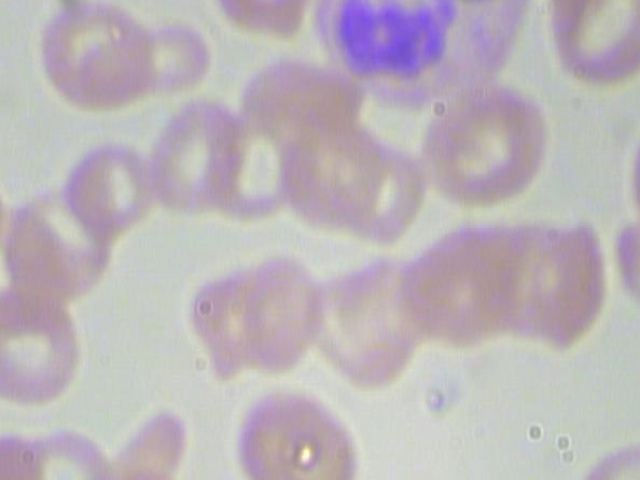WBC: (309, 0, 531, 113)
